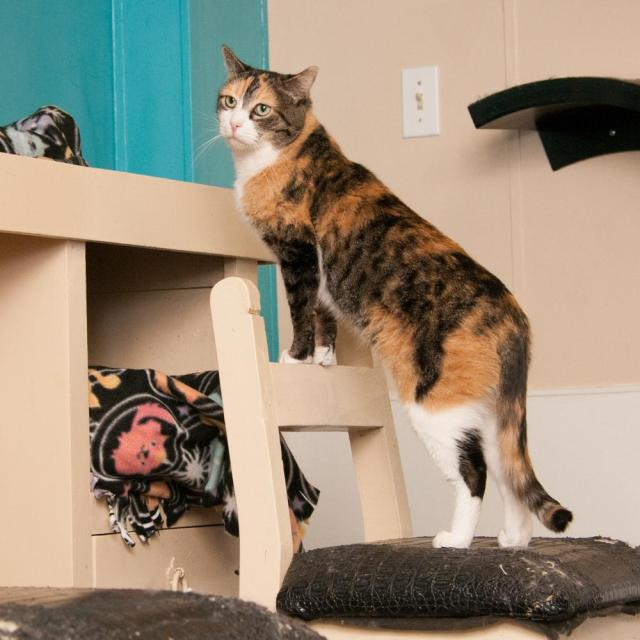calico_cat: (211, 38, 325, 171)
